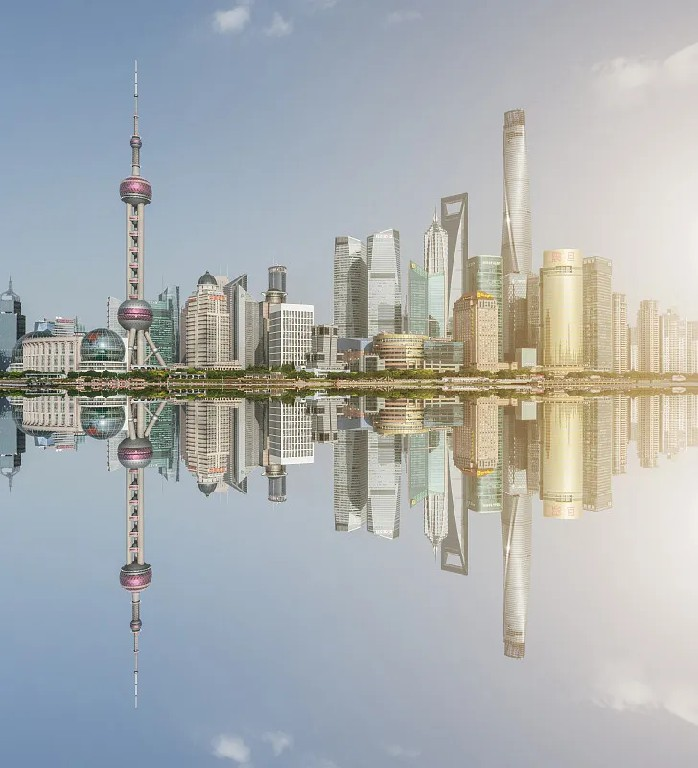Oriental: (117, 60, 167, 369)
